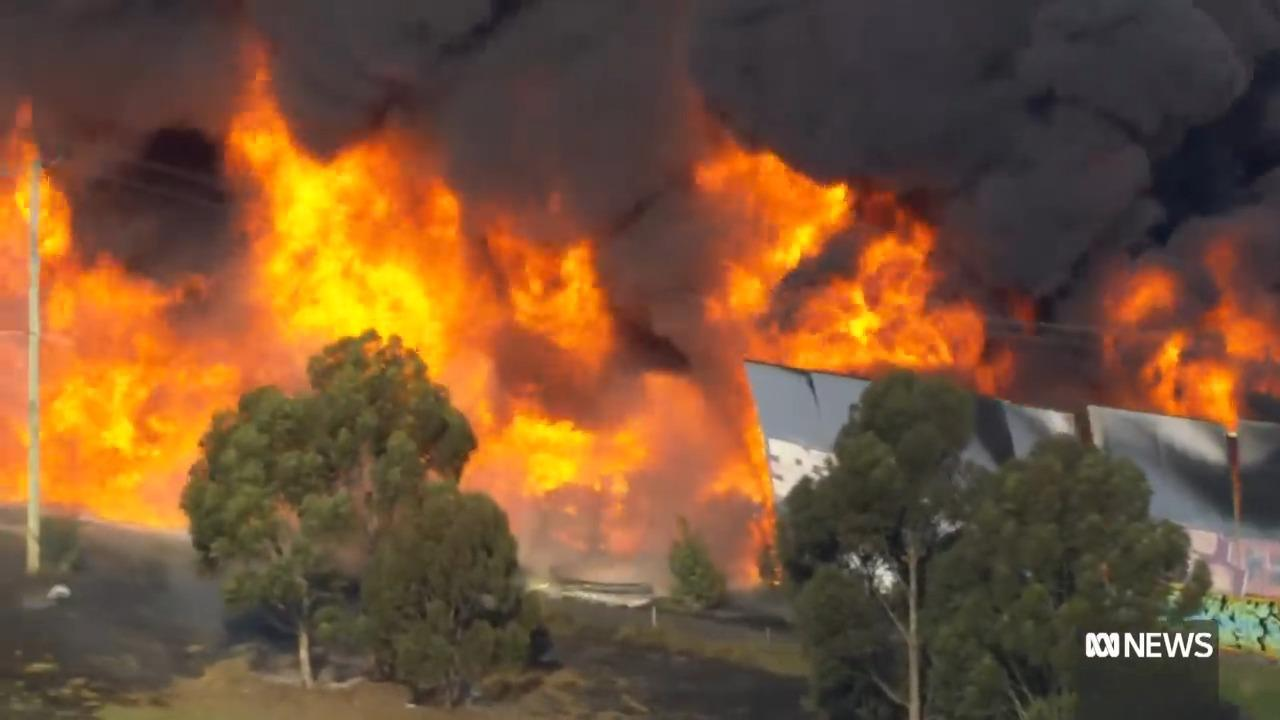fire: (1, 90, 232, 530), (491, 213, 734, 556), (696, 123, 989, 375), (250, 77, 459, 365), (1093, 257, 1280, 413)
